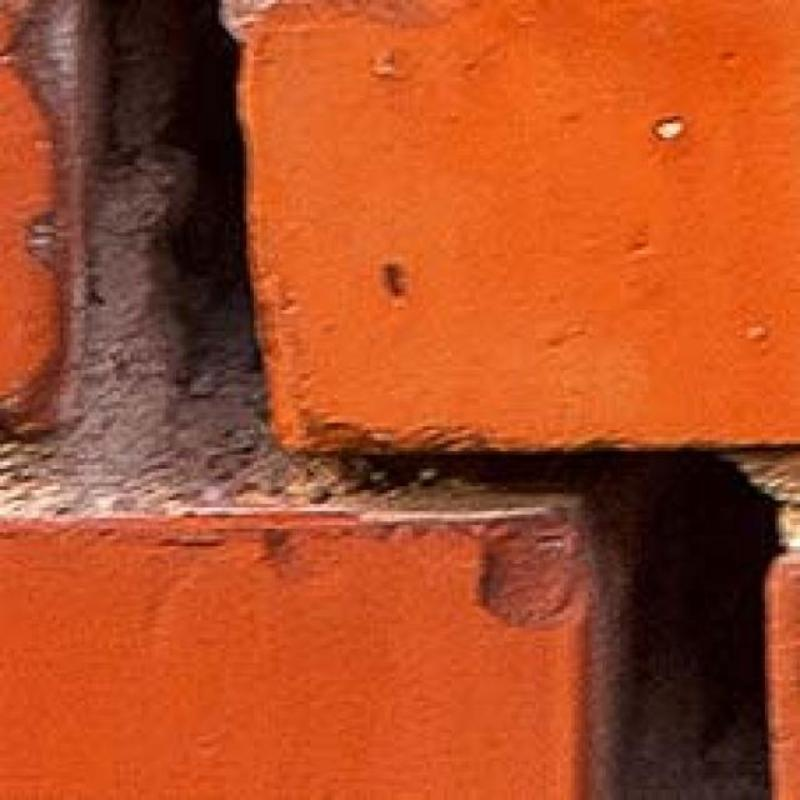pothole: (367, 453, 777, 800), (162, 0, 259, 376)
